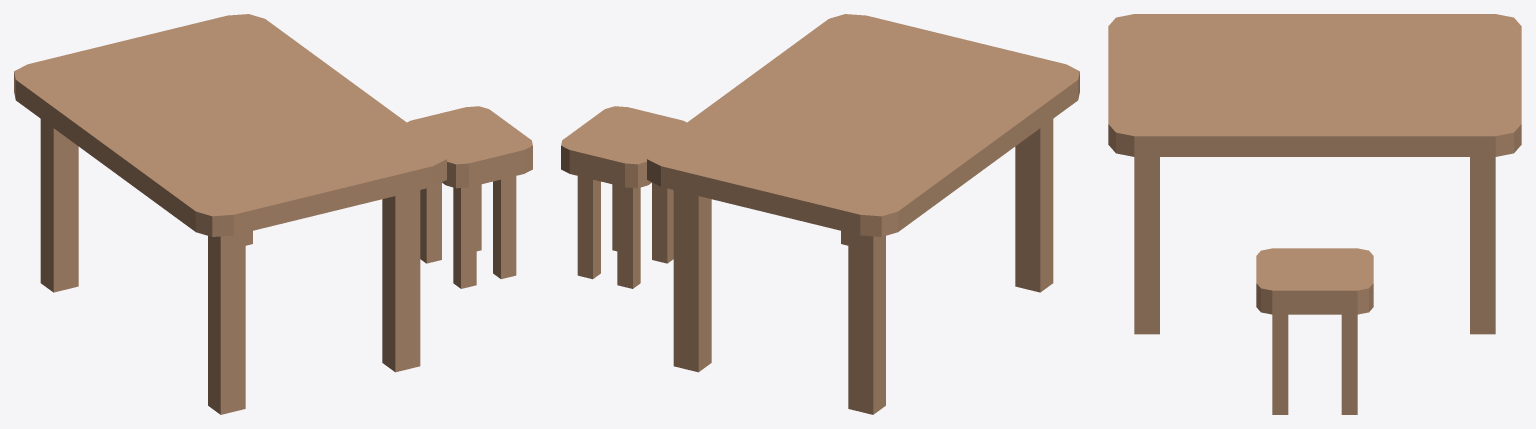
The model's file is 3D_Chair.fbx.
The picture shows the model from 3 angles, left to right: view 1: azimuth 30°, elevation 25°; view 2: azimuth 150°, elevation 25°; view 3: azimuth 270°, elevation 25°; orthographic projection.
Visible parts, largest first — view 1: Cube, Cube.001; view 2: Cube, Cube.001; view 3: Cube, Cube.001.
Boxes of the visible parts, <box> form: Cube: <box>14,14,446,414</box>; Cube.001: <box>407,106,532,288</box>; Cube: <box>647,14,1079,414</box>; Cube.001: <box>561,106,686,288</box>; Cube: <box>1108,14,1521,334</box>; Cube.001: <box>1256,248,1373,414</box>.
Bounding box in the file's own units: 184 × 91.02 × 162.
